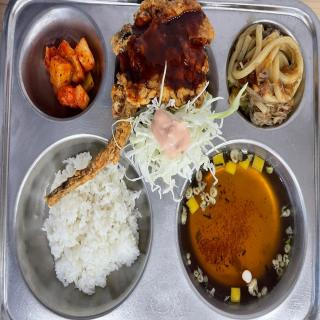Nasi: (42, 198, 144, 294)
